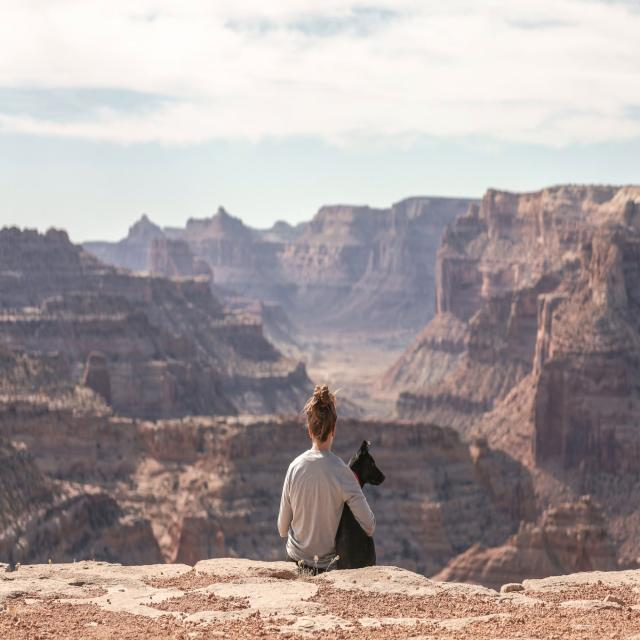adult: (275, 392, 374, 564)
